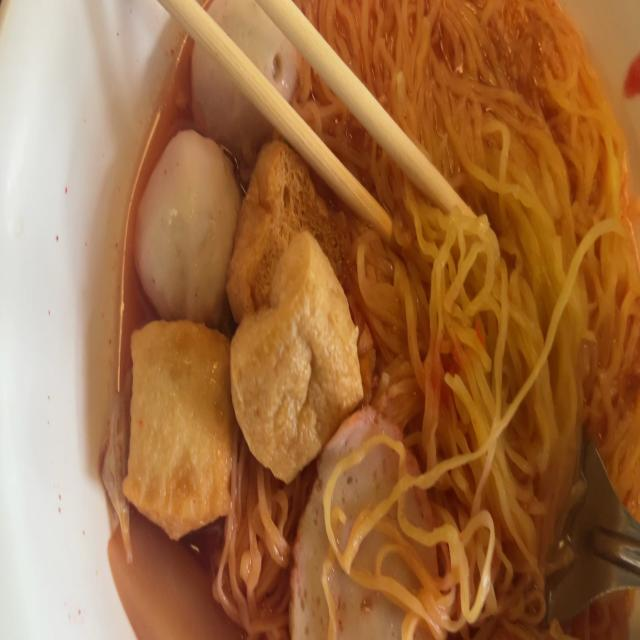crunchy_squid: (106, 499, 267, 639)
egg_noodles: (302, 0, 640, 639)
fish_ball: (130, 129, 240, 327), (187, 0, 296, 161)
fried_fish_balls: (288, 405, 441, 639)
fried_tofu: (227, 230, 366, 483), (225, 134, 350, 327)
noodle: (121, 0, 640, 640)
tofu: (125, 309, 242, 550)
